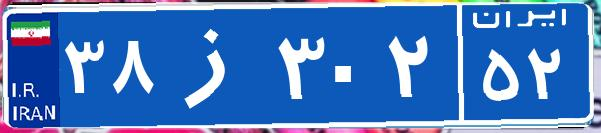0: (330, 28, 385, 110)
2: (385, 28, 445, 110), (525, 38, 570, 115)
3: (273, 28, 330, 110), (57, 26, 110, 107)
5: (475, 38, 525, 113)
8: (110, 28, 158, 105)
ز: (158, 15, 273, 115)
